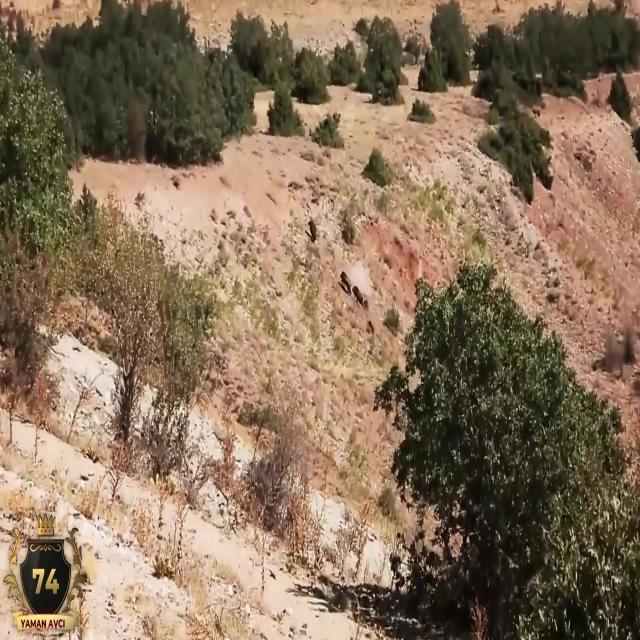pig: (352, 279, 374, 313), (334, 272, 356, 302), (303, 208, 320, 245)
